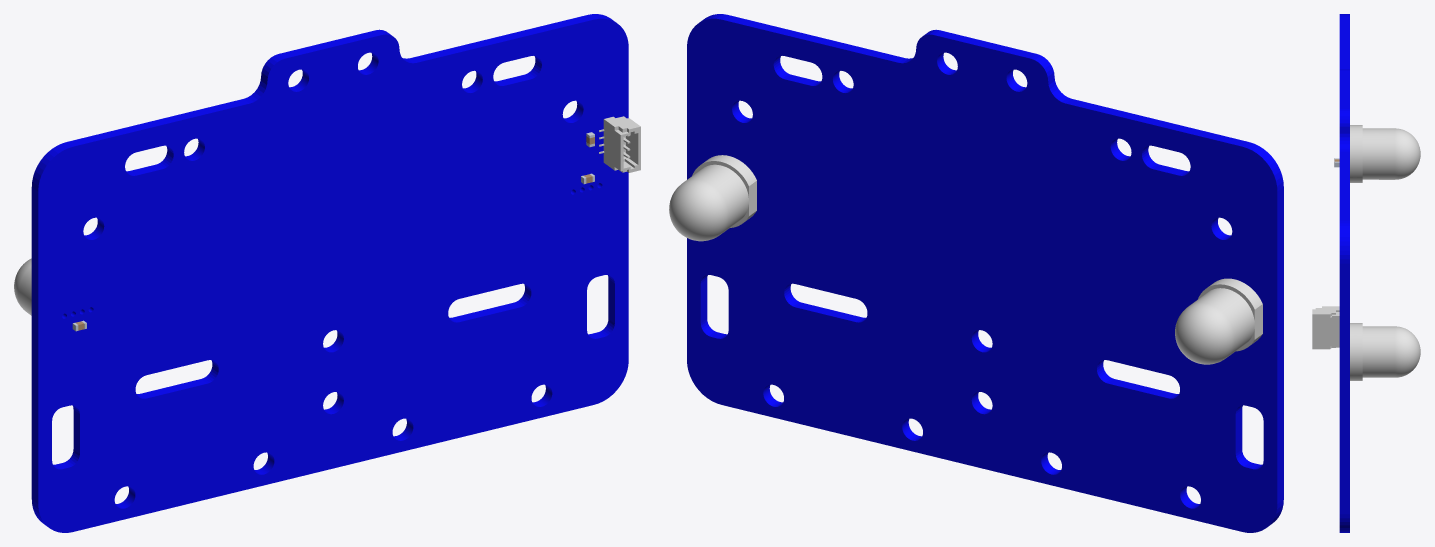
File: Back_bumper.obj
3 renders of one model, left to right at view 1: azimuth 30°, elevation 25°; view 2: azimuth 150°, elevation 25°; view 3: azimuth 270°, elevation 25°, orthographic. The views are drawn at different scales.
Visible parts, largest first — view 1: Body3, Body5, Body1:1; view 2: Body3, Body1:1, Body1; view 3: Body3, Body1, Body1:1, Body5.
Part boxes in pixels (left/top/right/bottom): Body3: left=31, top=14, right=628, bottom=532; Body5: left=599, top=116, right=640, bottom=172; Body1:1: left=14, top=258, right=31, bottom=315; Body3: left=687, top=14, right=1283, bottom=532; Body1:1: left=1175, top=278, right=1262, bottom=364; Body1: left=669, top=155, right=756, bottom=241; Body3: left=1339, top=14, right=1349, bottom=532; Body1: left=1350, top=323, right=1420, bottom=380; Body1:1: left=1350, top=125, right=1420, bottom=182; Body5: left=1312, top=306, right=1339, bottom=349.
Bounding box in the file's own units: 85 × 58 × 16.85.
